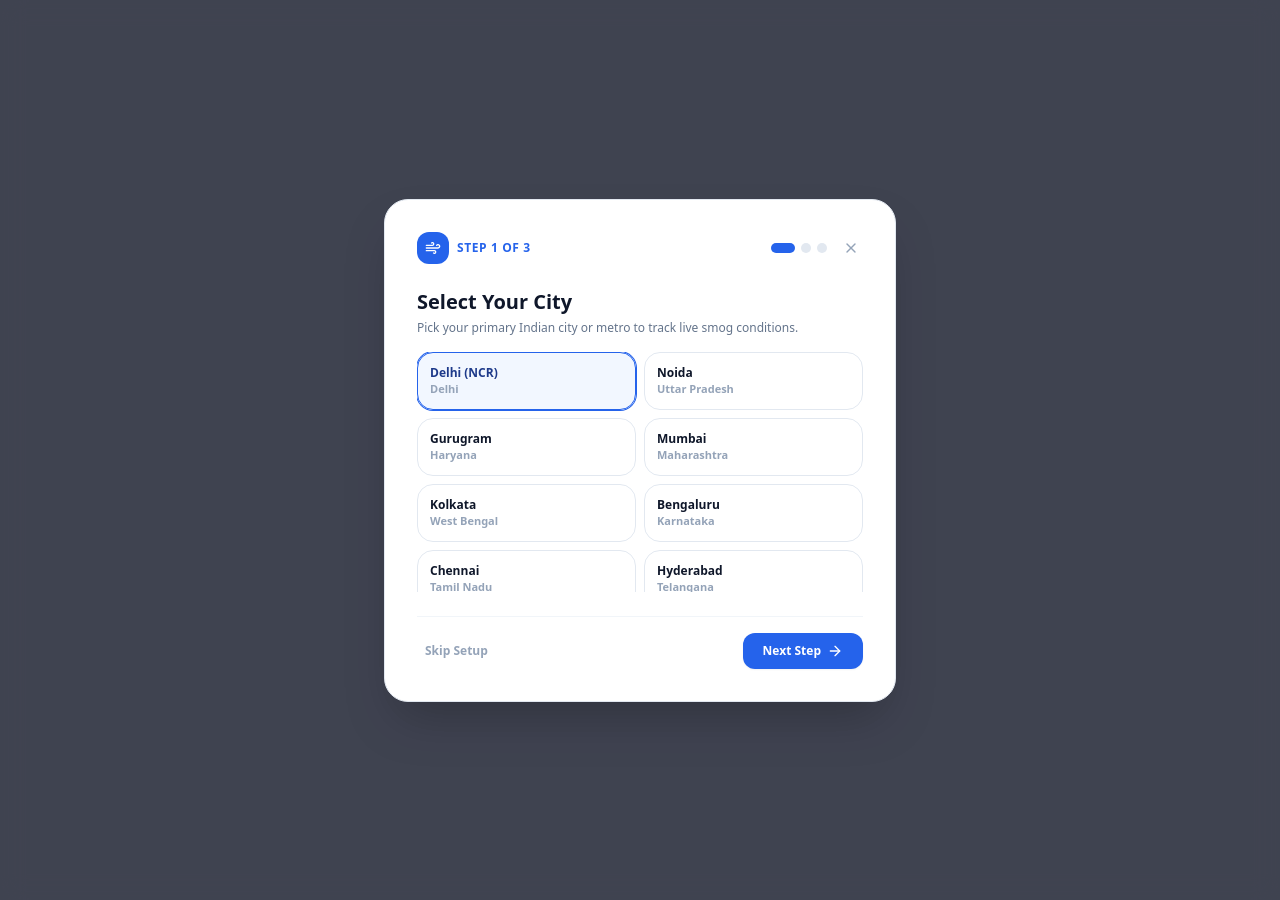
Test: Interactive Components Suite › OnboardingWizard steps through 1, 2, 3 and calls onComplete
This screenshot has width=1280, height=900.
Later steps or results of the test are not shown.
Expected: the text "Step 1 of 3" is shown, [457,240,531,256]
// Click Next to Step 2
Click the button "Next Step" at coordinates (803, 650), box [743,632,863,668]
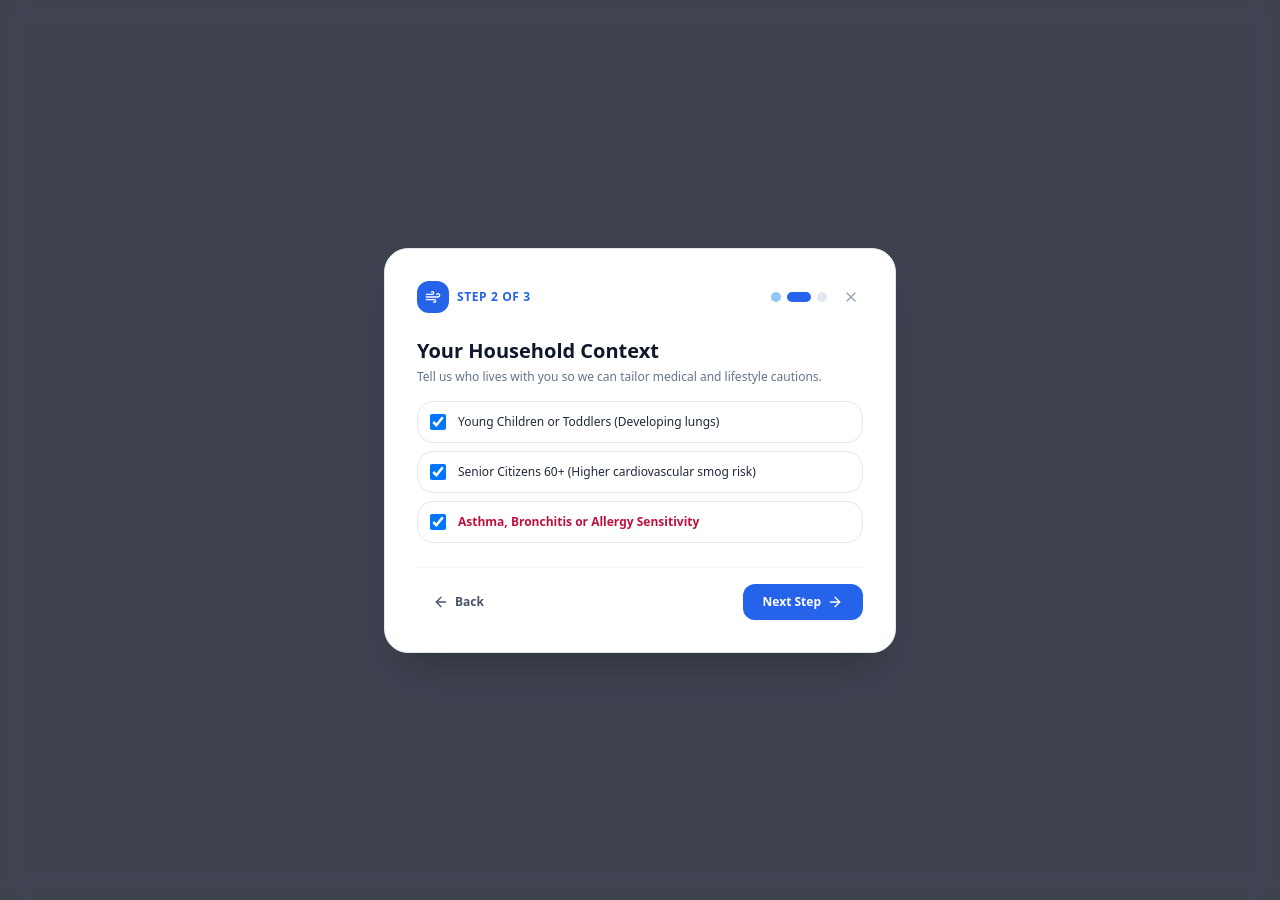
Expected: the text "Step 2 of 3" is shown, [457,288,531,304]
// Click Next to Step 3
Click the button "Next Step" at coordinates (803, 602), box [743,584,863,620]
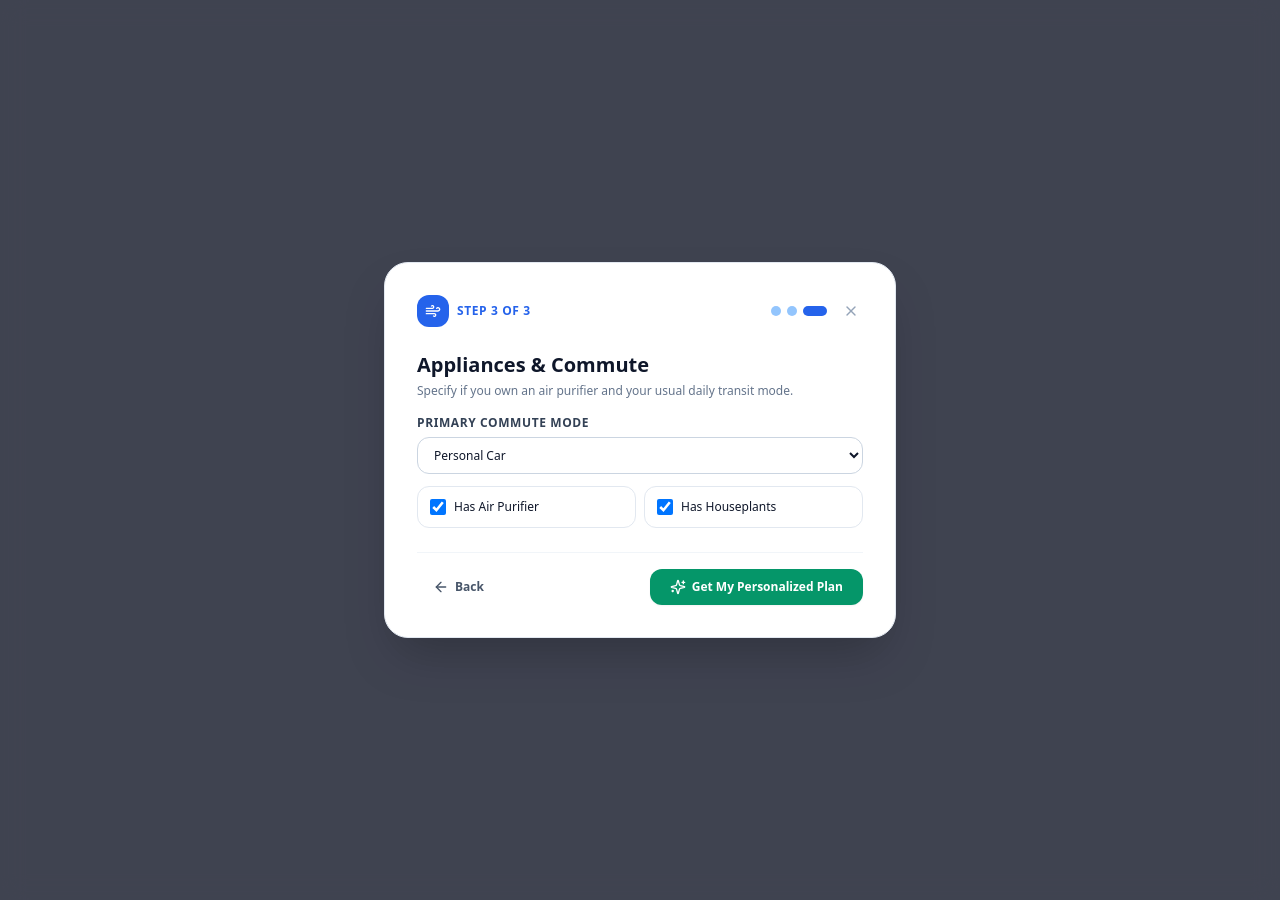
Expected: the text "Step 3 of 3" is shown, [457,303,531,319]
